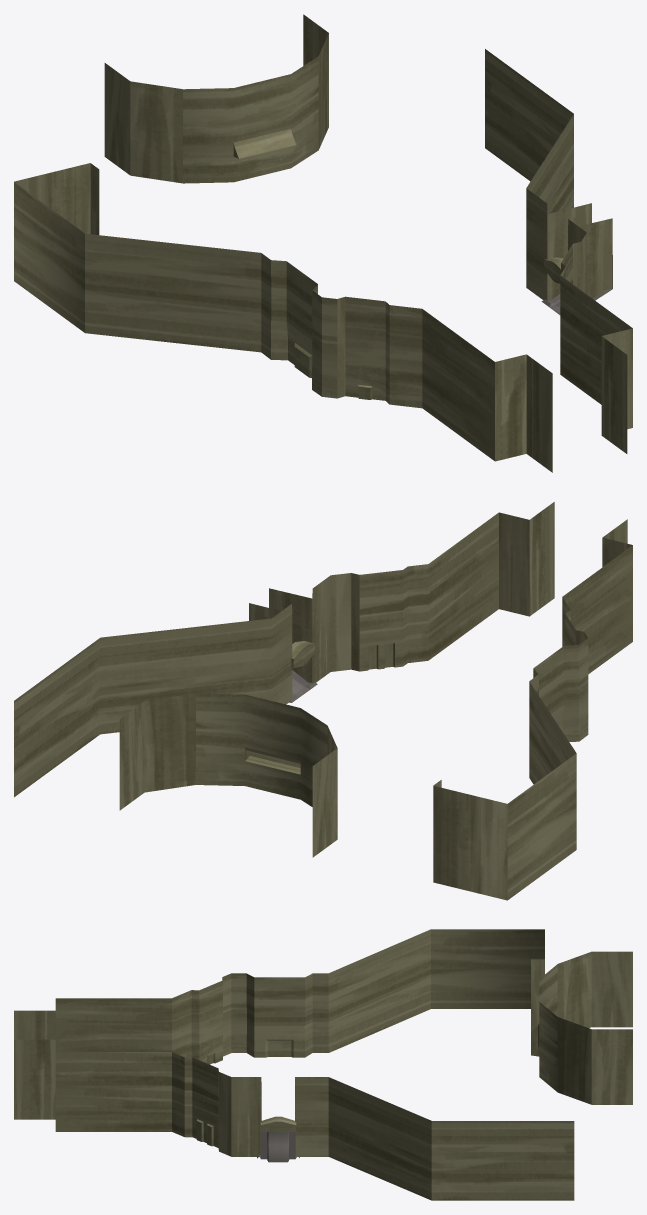
File: SM_ENV_LKNVLD_Wall_COL.FBX
The picture shows the model from 3 angles, top to bottom: view 1: azimuth 30°, elevation 25°; view 2: azimuth 150°, elevation 25°; view 3: azimuth 270°, elevation 25°; orthographic projection. The views are drawn at different scales.
Visible parts, largest first — view 1: SM_ENV_LKNVLD_Wall_COL; view 2: SM_ENV_LKNVLD_Wall_COL; view 3: SM_ENV_LKNVLD_Wall_COL.
Boxes of the visible parts, x1,y1,x2,y2 form: SM_ENV_LKNVLD_Wall_COL: [14, 14, 632, 472]; SM_ENV_LKNVLD_Wall_COL: [14, 502, 632, 900]; SM_ENV_LKNVLD_Wall_COL: [14, 929, 632, 1200].
Bounding box in the file's own units: 12270 × 3422 × 16759.
